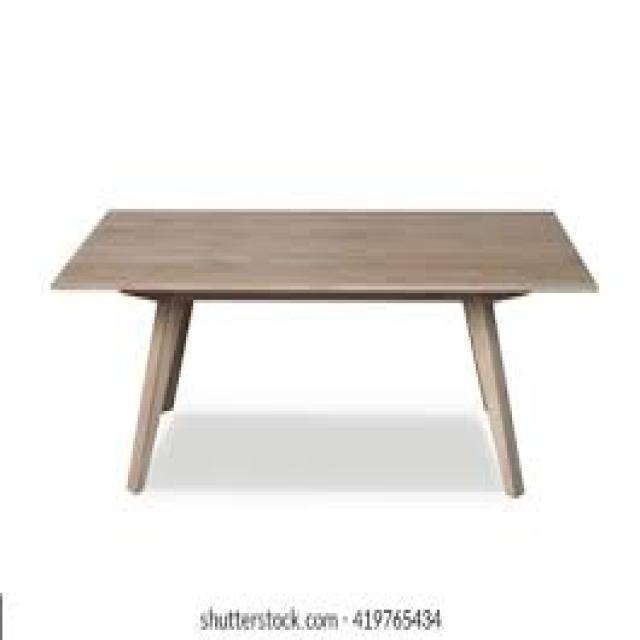obstacle: (34, 118, 605, 541)
